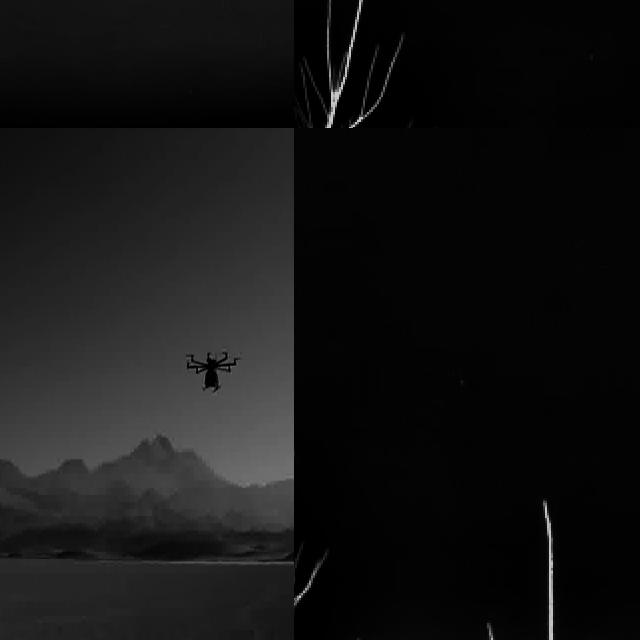0: (582, 43, 604, 76), (454, 372, 476, 402)
drone: (189, 344, 241, 396)
